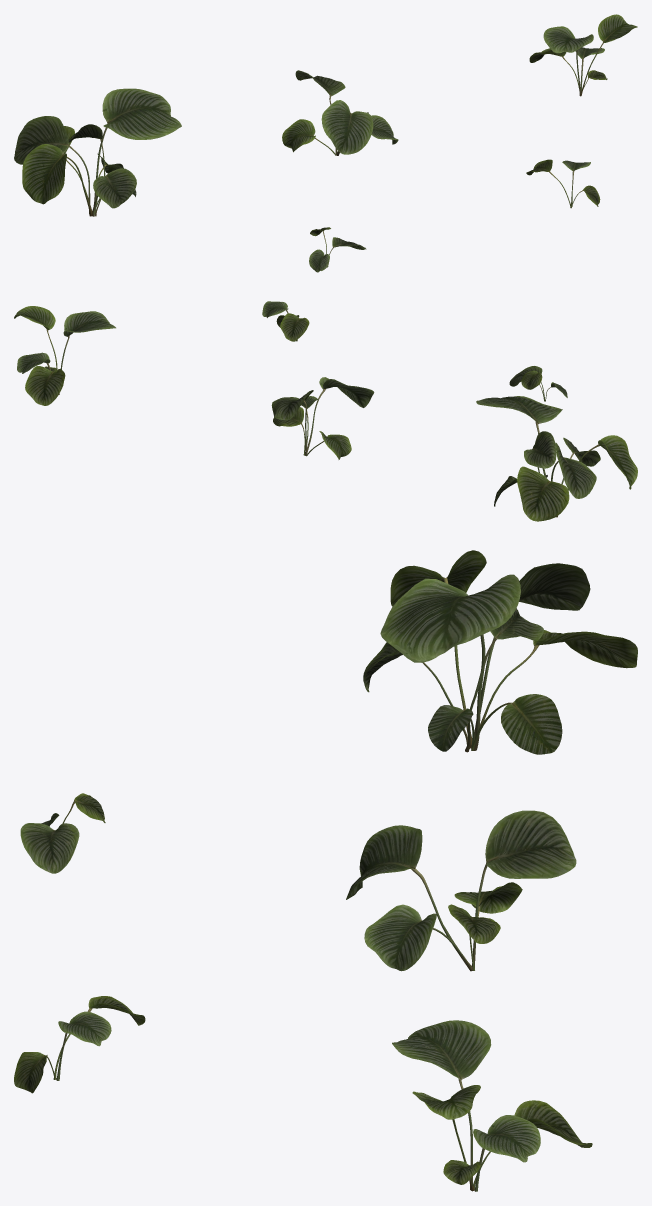
Rendered from calathea_orbifolia_01.glb.
3 views of the same model, one above another, from view 1: azimuth 30°, elevation 25°; view 2: azimuth 150°, elevation 25°; view 3: azimuth 270°, elevation 25° (orthographic). The views are drawn at different scales.
Visible parts, largest first — view 1: calathea_orbifolia_01_a; view 2: calathea_orbifolia_01_a; view 3: calathea_orbifolia_01_a.
Boxes of the visible parts, x1,y1,x2,y2 form: calathea_orbifolia_01_a: (14, 14, 637, 272); calathea_orbifolia_01_a: (14, 301, 637, 521); calathea_orbifolia_01_a: (14, 550, 637, 1191).
Size of the model in its own units: 2.49 by 0.4243 by 1.19.
1 material, 1 textured.
